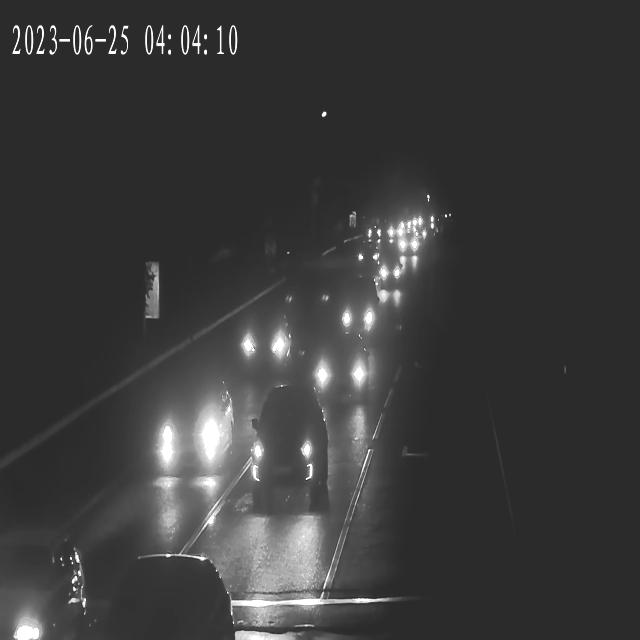Car: (80, 558, 232, 640), (146, 377, 242, 478), (0, 530, 89, 638), (242, 398, 328, 508), (233, 312, 295, 371), (308, 344, 373, 400), (329, 294, 379, 341), (376, 258, 404, 284), (354, 238, 381, 264), (393, 235, 419, 257), (398, 232, 422, 254), (362, 222, 381, 238)
